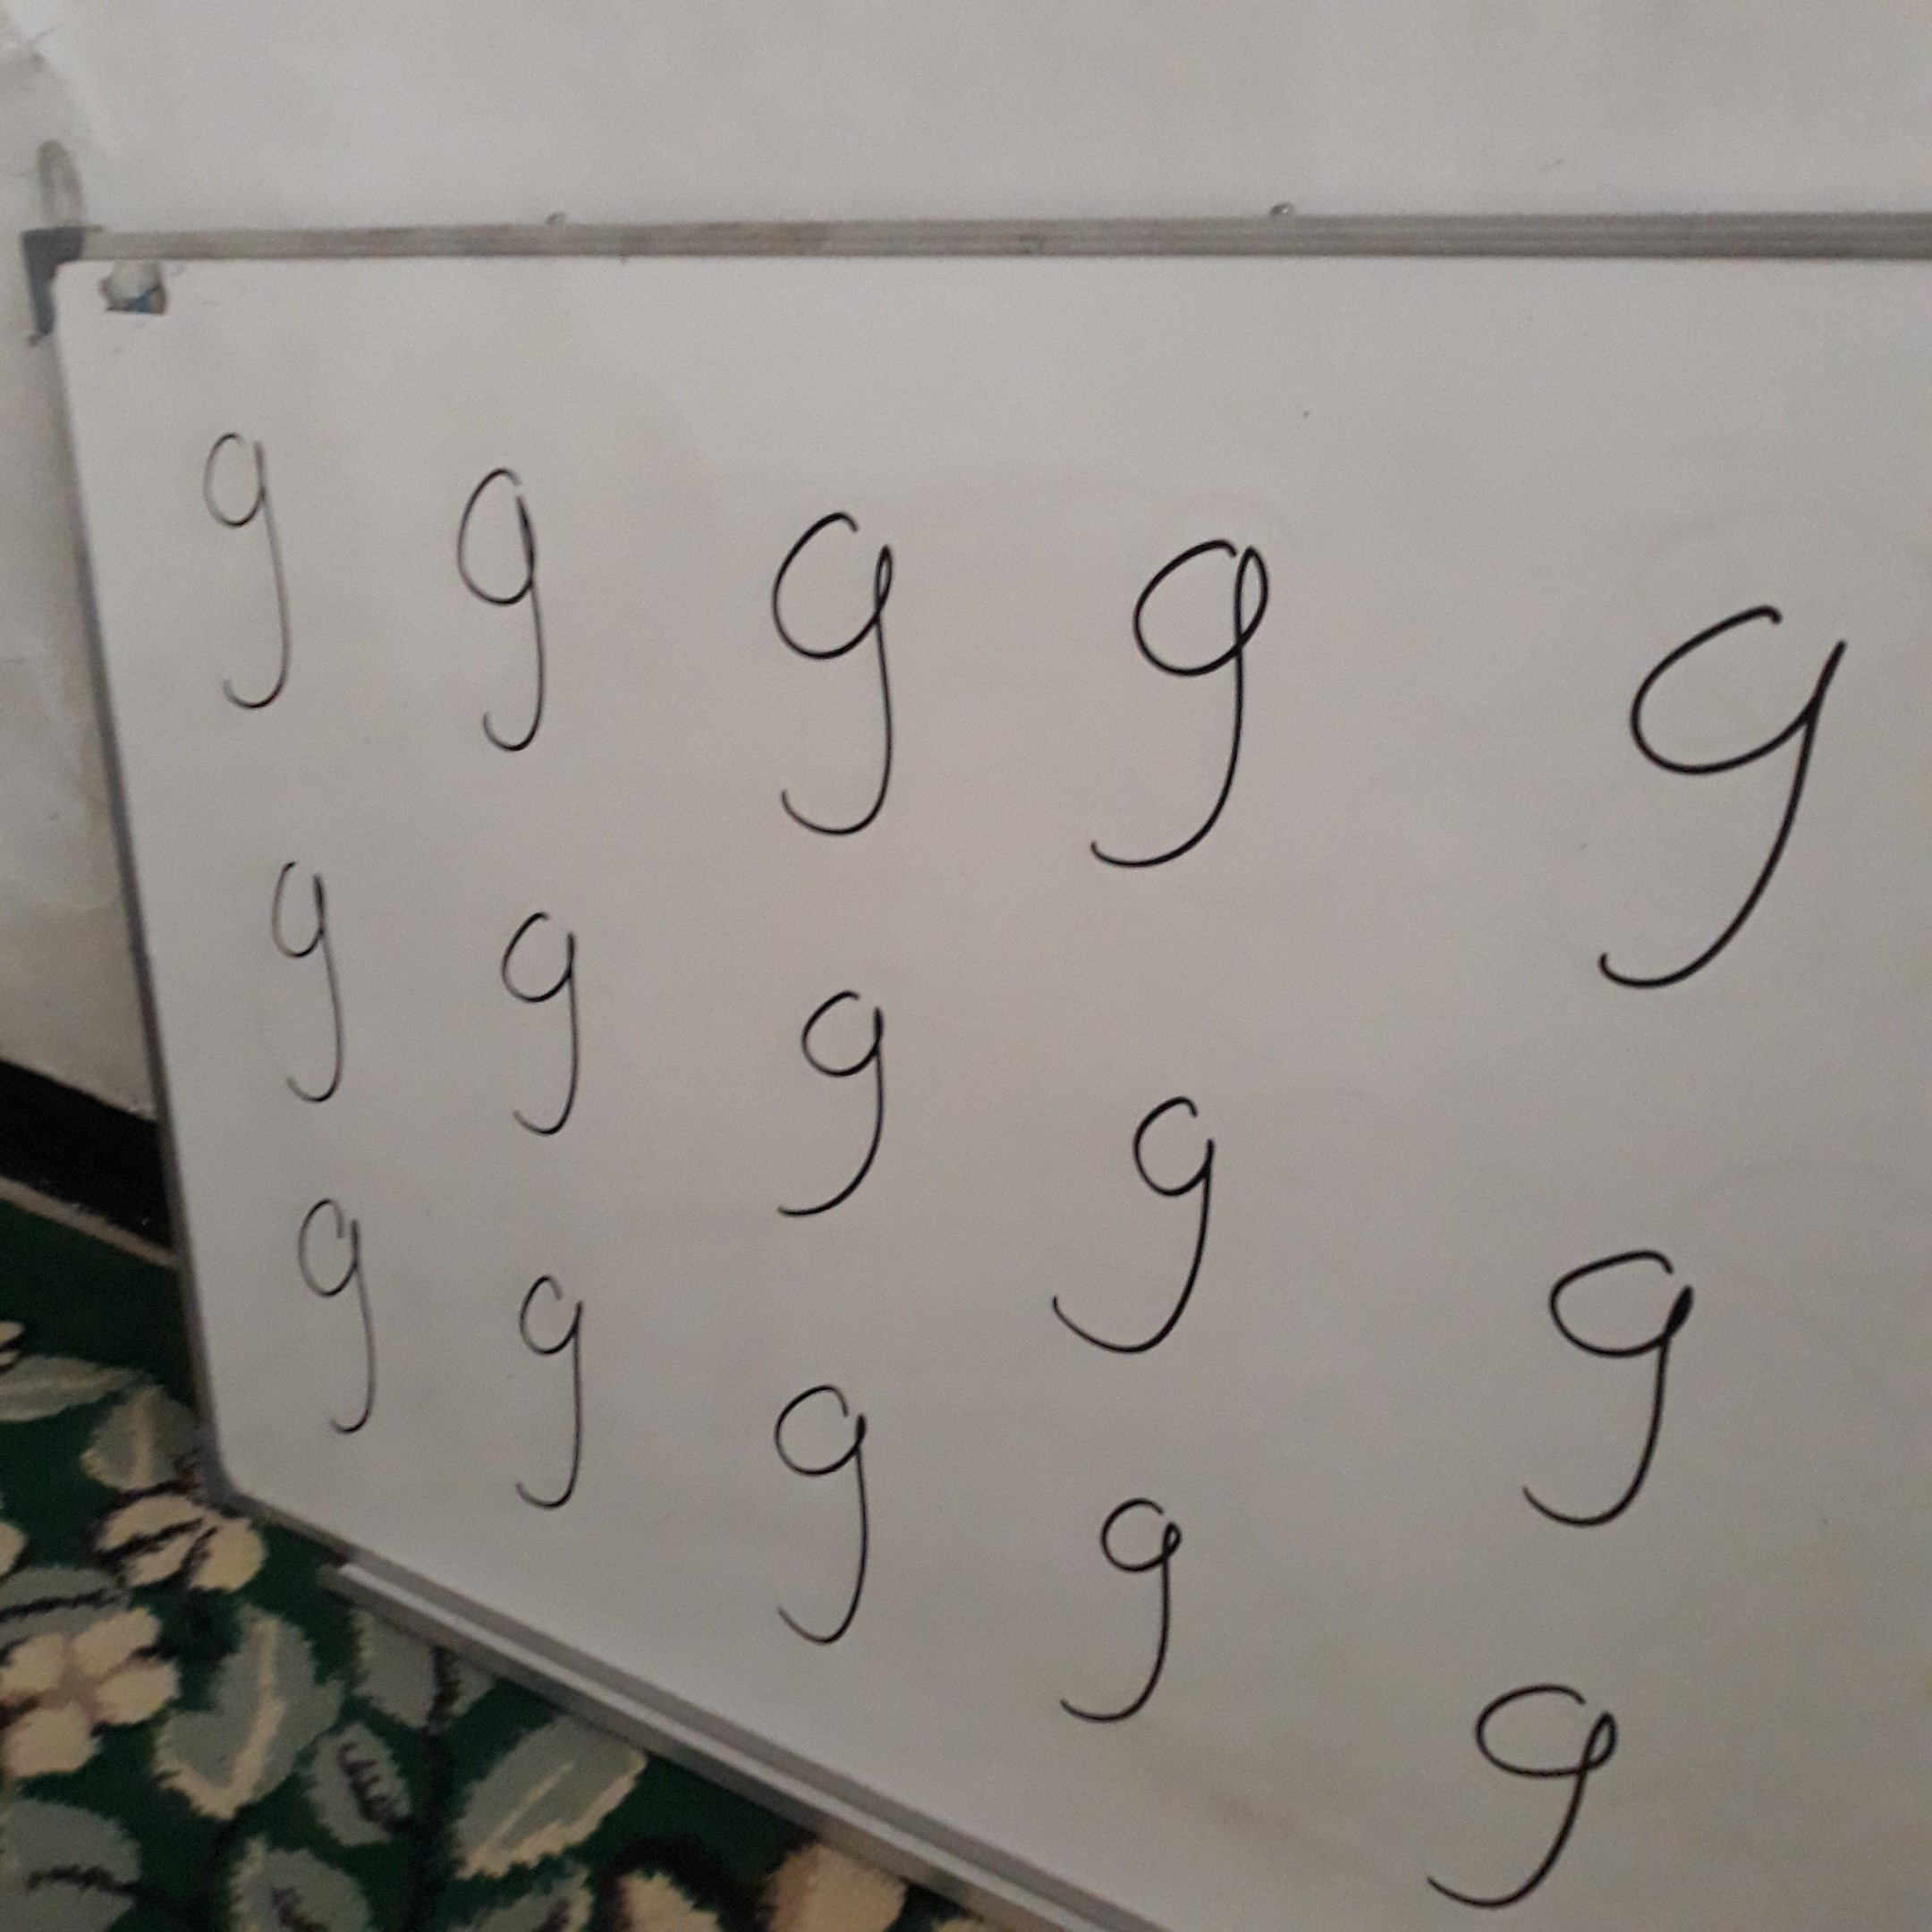num9: (1538, 551, 1868, 1022), (1057, 517, 1279, 912), (727, 502, 956, 871), (1016, 1067, 1264, 1387), (1500, 1219, 1722, 1563), (1409, 1657, 1651, 1932), (215, 819, 401, 1150), (436, 446, 612, 772), (166, 414, 332, 737), (731, 978, 928, 1238), (470, 884, 626, 1177), (757, 1363, 911, 1657), (1047, 1480, 1202, 1750), (278, 1197, 421, 1460), (485, 1267, 621, 1537)
